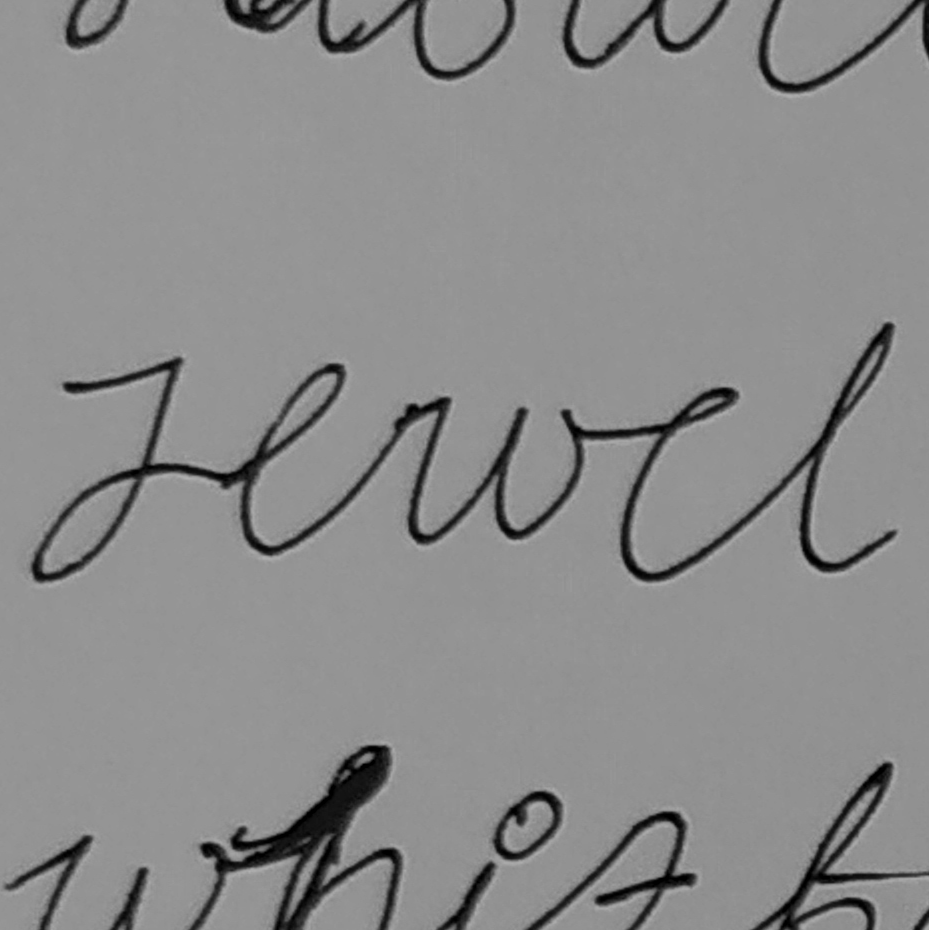e: (613, 383, 746, 587), (231, 357, 349, 561)
j: (25, 350, 186, 587)
l: (792, 317, 903, 576)
w: (401, 392, 588, 549)
